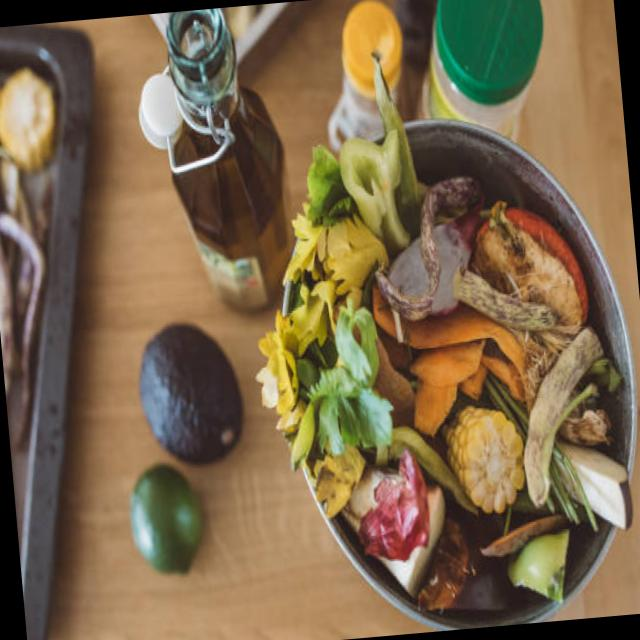paper: (116, 305, 262, 466), (483, 191, 592, 337), (108, 451, 208, 597), (386, 222, 498, 328), (440, 392, 522, 508)
